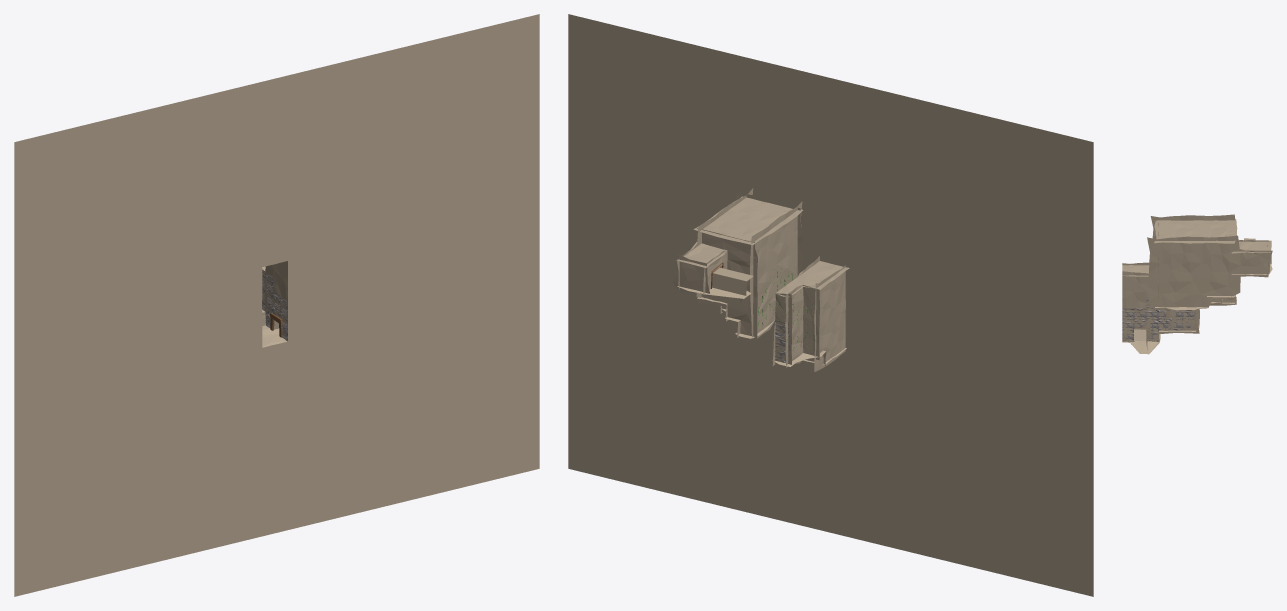
Rendered from cave-C.glb.
The picture shows the model from 3 angles, left to right: view 1: azimuth 30°, elevation 25°; view 2: azimuth 150°, elevation 25°; view 3: azimuth 270°, elevation 25°; orthographic projection. The views are drawn at different scales.
Parts seen in each view (by area): view 1: cabe-C; view 2: cabe-C; view 3: cabe-C.
Part boxes in pixels (x1=…): cabe-C: x1=14, y1=14, x2=539, y2=596; cabe-C: x1=568, y1=14, x2=1093, y2=596; cabe-C: x1=1122, y1=214, x2=1272, y2=354.
Size of the model in its own units: 40.91 by 33.83 by 12.37.
Materials: 1 (1 with a texture image).
